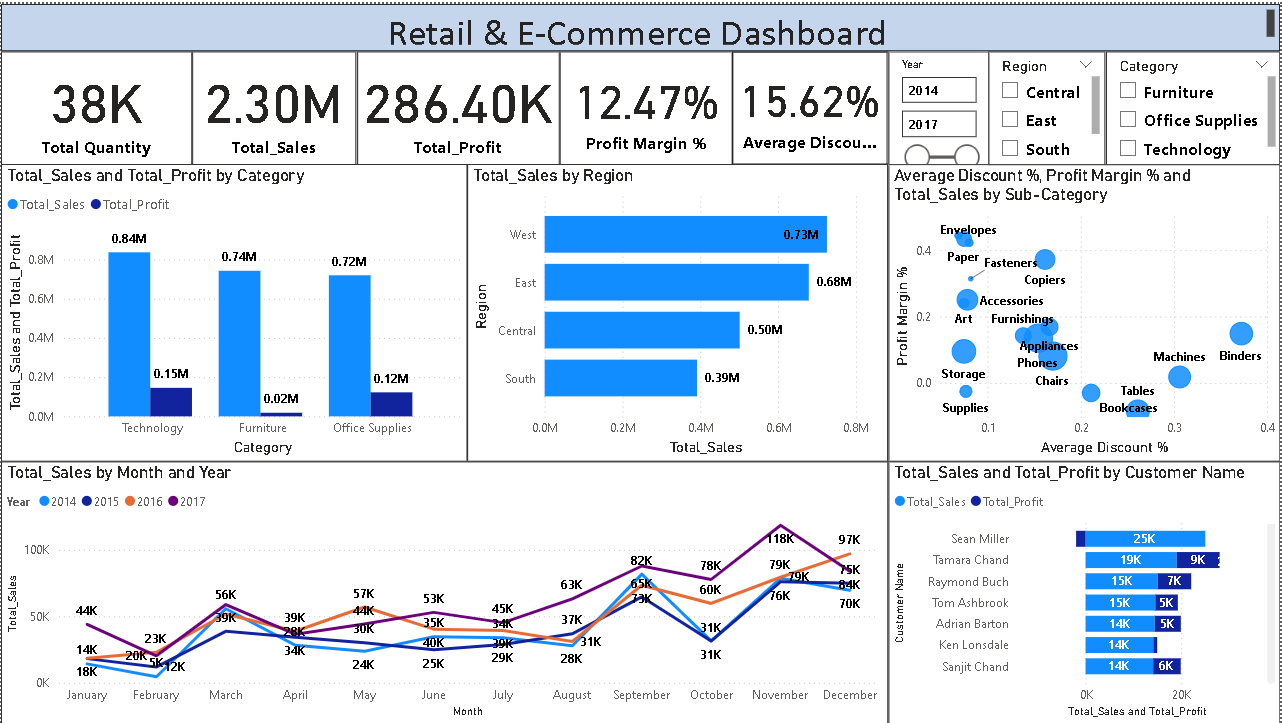

Layout of this report page (visuals, bound fields, positions):
{"tool":"powerbi","page":{"name":"Page 1","canvas":[1280,720],"ordinal":0},"visuals":[{"type":"card","fields":{"Values":["Sheet1.Total_Sales"]},"box":[191.6,47.3,164.2,113.2],"z":0},{"type":"card","fields":{"Values":["Sheet1.Total_Profit"]},"box":[355.8,47.3,202.8,113.2],"z":1000},{"type":"card","fields":{"Values":["Sheet1.Profit Margin %"]},"box":[558.5,47.3,172.9,113.2],"z":2000},{"type":"card","fields":{"Values":["Sheet1.Average Discount %"]},"box":[731.4,47.3,155.5,113.2],"z":3000},{"type":"card","fields":{"Values":["Sheet1.Total Quantity"]},"box":[0,47.3,191.6,113.2],"z":4000},{"type":"clusteredColumnChart","fields":{"Y":["Sheet1.Total_Sales","Sheet1.Total_Profit"],"Category":["Sheet1.Category"]},"box":[0,160.5,466.5,297.3],"z":5000},{"type":"lineChart","fields":{"Series":["Sheet1.Year"],"Category":["Sheet1.Order Date.Variation.Date Hierarchy.Month"],"Y":["Sheet1.Total_Sales"]},"box":[0,457.8,886.9,262.5],"z":6000},{"type":"clusteredBarChart","fields":{"Category":["Sheet1.Region"],"Y":["Sheet1.Total_Sales"]},"box":[466.5,160.5,420.5,297.3],"z":7000},{"type":"scatterChart","fields":{"X":["Sheet1.Average Discount %"],"Y":["Sheet1.Profit Margin %"],"Size":["Sheet1.Total_Sales"],"Category":["Sheet1.Sub-Category"]},"box":[886.9,160.5,393.1,297.3],"z":8000},{"type":"barChart","fields":{"Category":["Sheet1.Customer Name"],"Y":["Sheet1.Total_Sales","Sheet1.Total_Profit"]},"box":[886.9,457.8,393.1,262.5],"z":8001},{"type":"slicer","fields":{"Values":["Sheet1.Year"]},"box":[886.9,47.3,100.8,113.2],"z":8002},{"type":"slicer","fields":{"Values":["Sheet1.Region"]},"box":[987.7,47.3,116.9,113.2],"z":8003},{"type":"slicer","fields":{"Values":["Sheet1.Category"]},"box":[1104.6,47.3,175.4,113.2],"z":8004},{"type":"textbox","box":[0,0,1280,47.3],"z":8005}]}

Visuals, with their boxes in screenshot pixels (x1, y1, x2, y2), scaled from the page's 1280x720 canvas onto the 1282x723 screenshot:
card - Sheet1.Total_Sales: box=[192, 47, 356, 161]
card - Sheet1.Total_Profit: box=[356, 47, 559, 161]
card - Sheet1.Profit Margin %: box=[559, 47, 733, 161]
card - Sheet1.Average Discount %: box=[733, 47, 888, 161]
card - Sheet1.Total Quantity: box=[0, 47, 192, 161]
clusteredColumnChart - Sheet1.Total_Sales x Sheet1.Total_Profit: box=[0, 161, 467, 460]
lineChart - Sheet1.Year x Sheet1.Order Date.Variation.Date Hierarchy.Month: box=[0, 460, 888, 722]
clusteredBarChart - Sheet1.Region x Sheet1.Total_Sales: box=[467, 161, 888, 460]
scatterChart - Sheet1.Average Discount % x Sheet1.Profit Margin %: box=[888, 161, 1281, 460]
barChart - Sheet1.Customer Name x Sheet1.Total_Sales: box=[888, 460, 1281, 722]
slicer - Sheet1.Year: box=[888, 47, 989, 161]
slicer - Sheet1.Region: box=[989, 47, 1106, 161]
slicer - Sheet1.Category: box=[1106, 47, 1281, 161]
textbox: box=[0, 0, 1281, 47]
